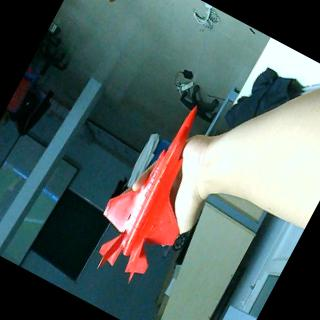Jet: (77, 91, 236, 298)
